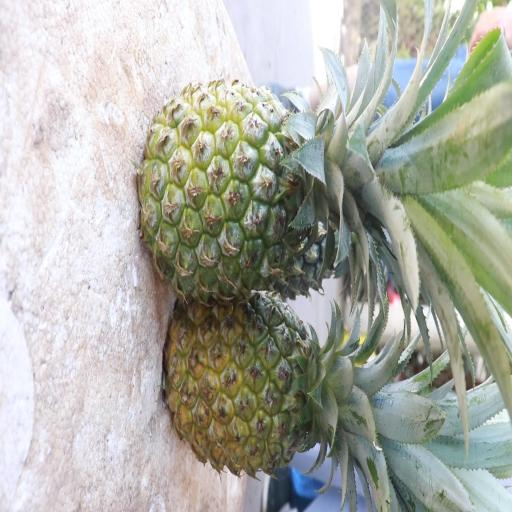------------------------------: (144, 77, 353, 299)
Pineapple - v8 v1: (170, 298, 368, 475)
